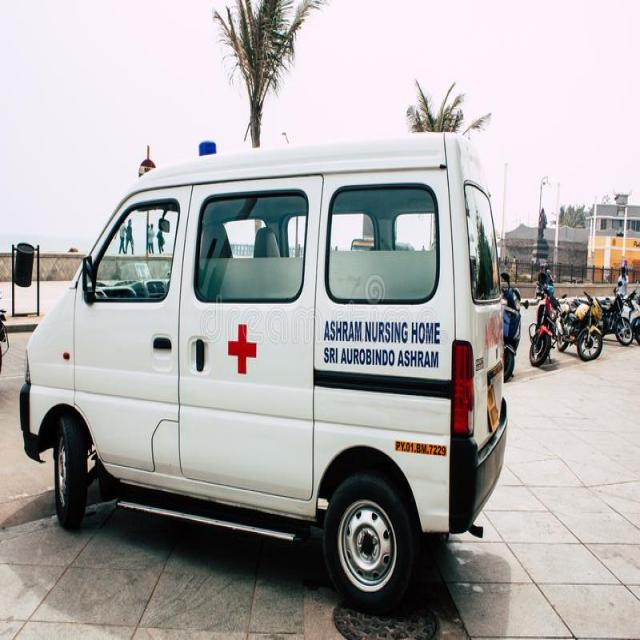ambulance: (18, 127, 510, 628)
